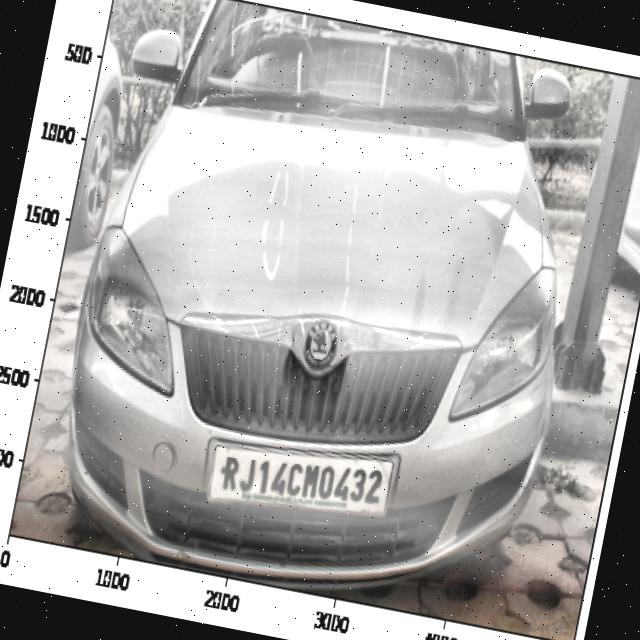license_plate: (215, 434, 394, 525)
